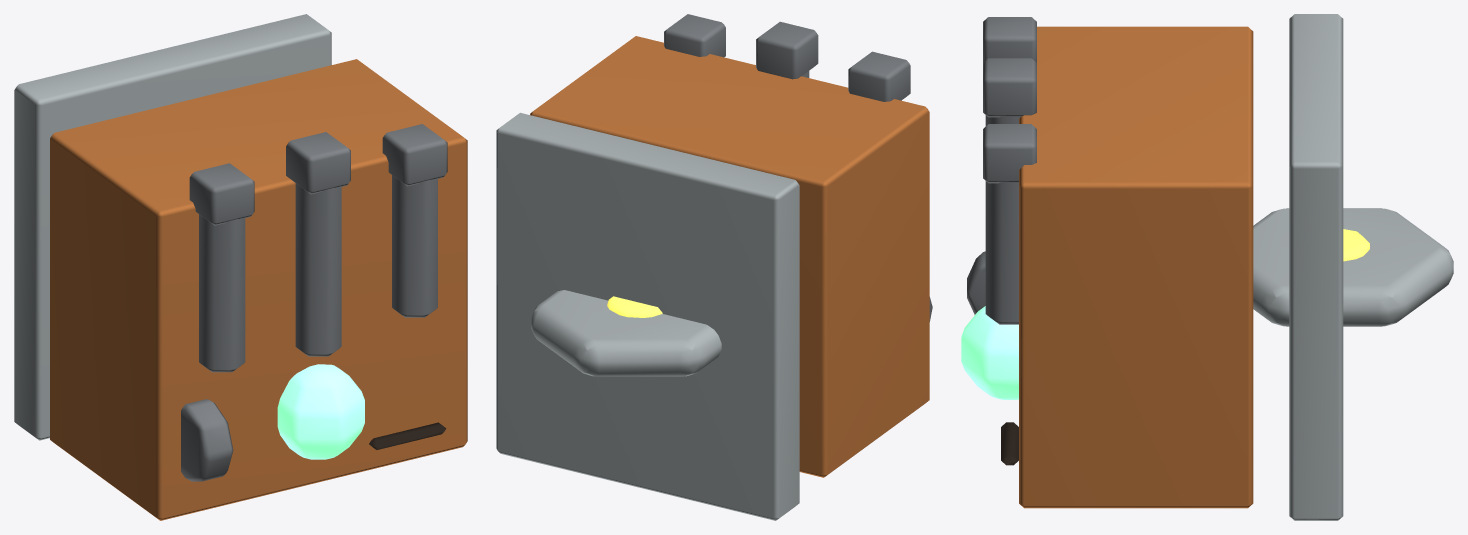
Rendered from cobble_sons_back_toolrack.glb.
3 views of the same model, side by side, from view 1: azimuth 30°, elevation 25°; view 2: azimuth 150°, elevation 25°; view 3: azimuth 270°, elevation 25° (orthographic). The views are drawn at different scales.
Parts seen in each view (by area): view 1: cobble_sons_back_toolrack; view 2: cobble_sons_back_toolrack; view 3: cobble_sons_back_toolrack.
Part boxes in pixels (x1,y1,x2,y2): cobble_sons_back_toolrack: (14,14,467,520); cobble_sons_back_toolrack: (496,14,932,520); cobble_sons_back_toolrack: (961,14,1453,520).
Size of the model in its own units: 0.42 by 0.465 by 0.5466.
1 material, 1 textured.
